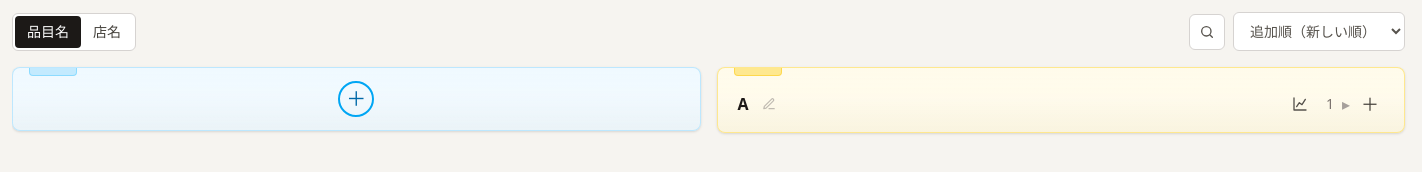
Test: FoldersPage record mutation races › does not apply stale resume listAllRecords after refreshAllRecords supersedes the request id
Click the button named "すべての記録" at [1330, 104], box [1320,90,1340,118]
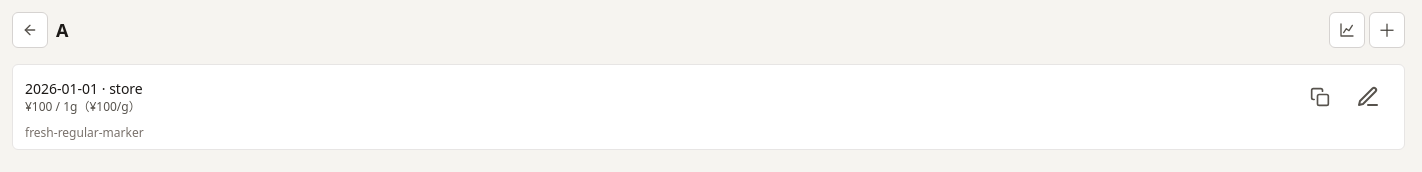
Result: the text "fresh-regular-marker" is shown at [25,124,144,141]
